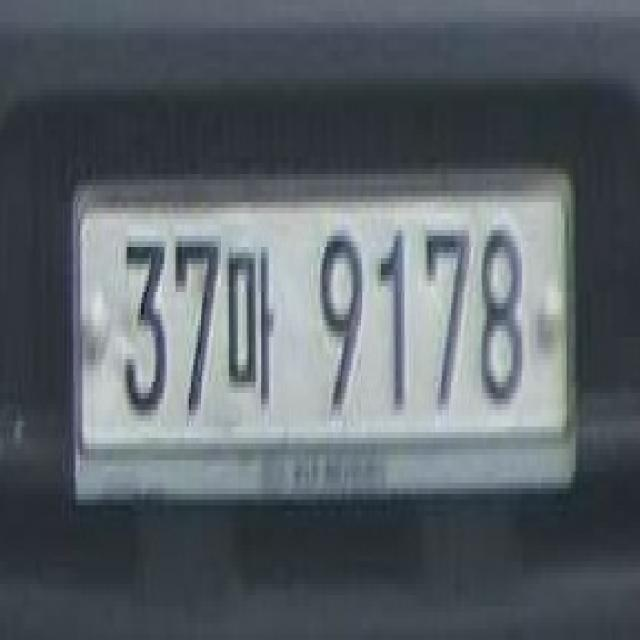1: (378, 230, 411, 416)
3: (125, 230, 167, 416)
7: (424, 224, 474, 410), (171, 236, 222, 415)
8: (480, 219, 522, 404)
9: (318, 230, 362, 404)
license_plate: (71, 174, 573, 472)
ma: (227, 236, 273, 410)
